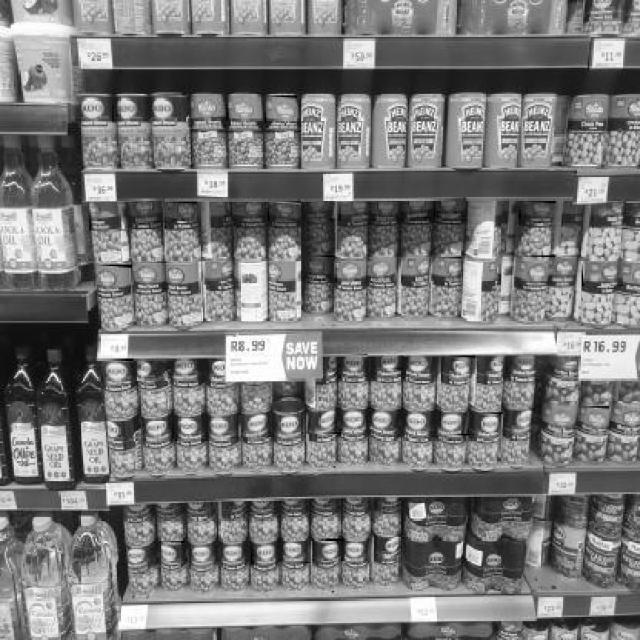Beans: (514, 256, 557, 287), (189, 94, 227, 128), (582, 260, 625, 288), (542, 400, 579, 431), (148, 94, 188, 122), (592, 200, 628, 231), (548, 259, 580, 293), (226, 93, 263, 122), (112, 95, 150, 123), (75, 97, 113, 125), (89, 205, 126, 233), (266, 96, 300, 125), (274, 412, 305, 443), (94, 265, 134, 289), (126, 199, 166, 223), (166, 260, 202, 286), (306, 410, 342, 436), (205, 414, 241, 440), (400, 257, 432, 285), (131, 262, 168, 286), (369, 535, 406, 559), (102, 359, 136, 385), (505, 408, 536, 436), (189, 543, 220, 571), (435, 413, 471, 437), (342, 536, 371, 565), (578, 406, 610, 432), (430, 257, 464, 281), (203, 262, 237, 286), (172, 415, 206, 439), (242, 413, 273, 439), (266, 262, 302, 284), (312, 539, 346, 562), (335, 260, 367, 284), (135, 357, 167, 381), (518, 200, 556, 220), (157, 540, 186, 566), (506, 354, 540, 376), (434, 198, 468, 220), (269, 200, 303, 222), (368, 257, 399, 281), (479, 352, 510, 376), (172, 359, 203, 383), (280, 540, 311, 564), (369, 409, 401, 432), (251, 539, 277, 567), (129, 548, 157, 574), (403, 411, 434, 434), (305, 255, 337, 277), (472, 413, 504, 435), (306, 200, 337, 222), (339, 202, 373, 222), (339, 410, 368, 433), (232, 203, 268, 221), (163, 202, 199, 220), (445, 356, 477, 376), (401, 200, 433, 220), (143, 420, 172, 442), (371, 200, 402, 220), (342, 354, 370, 376), (220, 540, 244, 564), (406, 357, 437, 375), (376, 355, 405, 371)
